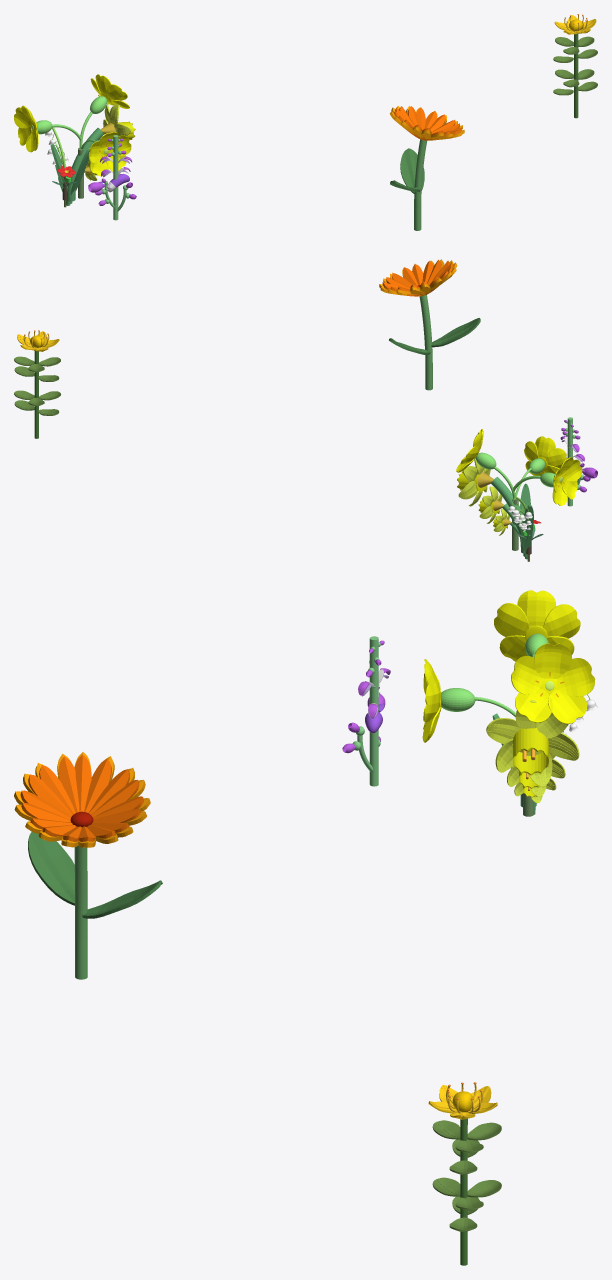
The model's file is PlantsFinished.fbx.
3 views of the same model, one above another, from view 1: azimuth 30°, elevation 25°; view 2: azimuth 150°, elevation 25°; view 3: azimuth 270°, elevation 25° (orthographic). The views are drawn at different scales.
Visible parts, largest first — view 1: Circle_006_1, Leaf__1__2, Flower_5, Stem_6, stem_2_2, Cylinder_2610, Cylinder_002_8; view 2: Circle_006_1, Flower_5, Stem_6, Leaf_13, stem_2_2; view 3: Circle_006_1, Leaf_13, Flower_5, flowerCube_001_2, Stem_6, flower_009, Cylinder_2610, flower_005, flower, flower_001, Leaf__1__2, flower_006 (+3 smaller).
Boxes of the visible parts, x1=… form: Circle_006_1: x1=394, y1=106, x2=461, y2=140; Leaf__1__2: x1=400, y1=148, x2=424, y2=193; Flower_5: x1=390, y1=106, x2=464, y2=140; Stem_6: x1=414, y1=139, x2=426, y2=209; stem_2_2: x1=67, y1=128, x2=103, y2=201; Cylinder_2610: x1=113, y1=135, x2=118, y2=220; Cylinder_002_8: x1=574, y1=33, x2=578, y2=118; Circle_006_1: x1=382, y1=259, x2=452, y2=296; Flower_5: x1=379, y1=259, x2=457, y2=296; Stem_6: x1=419, y1=295, x2=432, y2=367; Leaf_13: x1=431, y1=318, x2=480, y2=347; stem_2_2: x1=491, y1=477, x2=524, y2=553; Circle_006_1: x1=20, y1=755, x2=143, y2=841; Leaf_13: x1=28, y1=832, x2=74, y2=905; Flower_5: x1=14, y1=752, x2=150, y2=847; flowerCube_001_2: x1=513, y1=727, x2=548, y2=775; Stem_6: x1=74, y1=845, x2=87, y2=941; flower_009: x1=534, y1=643, x2=571, y2=679; Cylinder_2610: x1=369, y1=636, x2=378, y2=786; flower_005: x1=556, y1=658, x2=595, y2=696; flower: x1=517, y1=590, x2=555, y2=627; flower_001: x1=543, y1=604, x2=580, y2=638; Leaf__1__2: x1=82, y1=880, x2=162, y2=918; flower_006: x1=548, y1=689, x2=587, y2=723.
Bounding box in the file's own units: 3753 × 977 × 1953.
